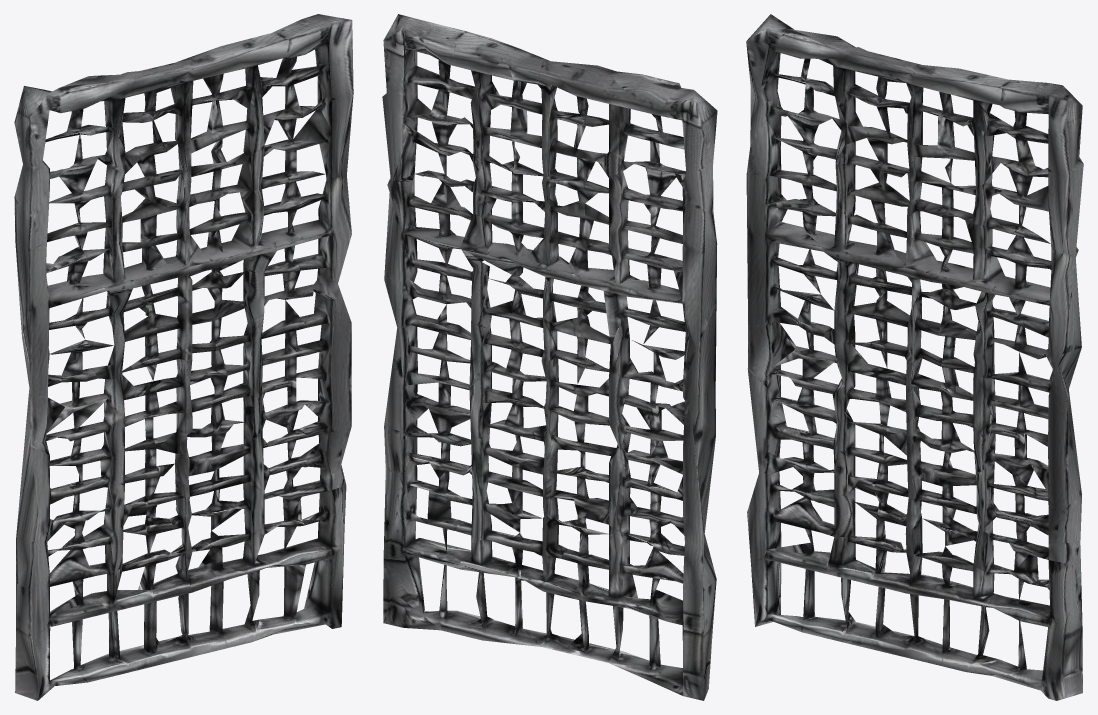
The model's file is wall.glb.
3 renders of one model, left to right at view 1: azimuth 30°, elevation 25°; view 2: azimuth 150°, elevation 25°; view 3: azimuth 330°, elevation 25°, orthographic.
Size of the model in its own units: 1.07 by 1.9 by 0.1094.
Materials: 1 (1 with a texture image).
